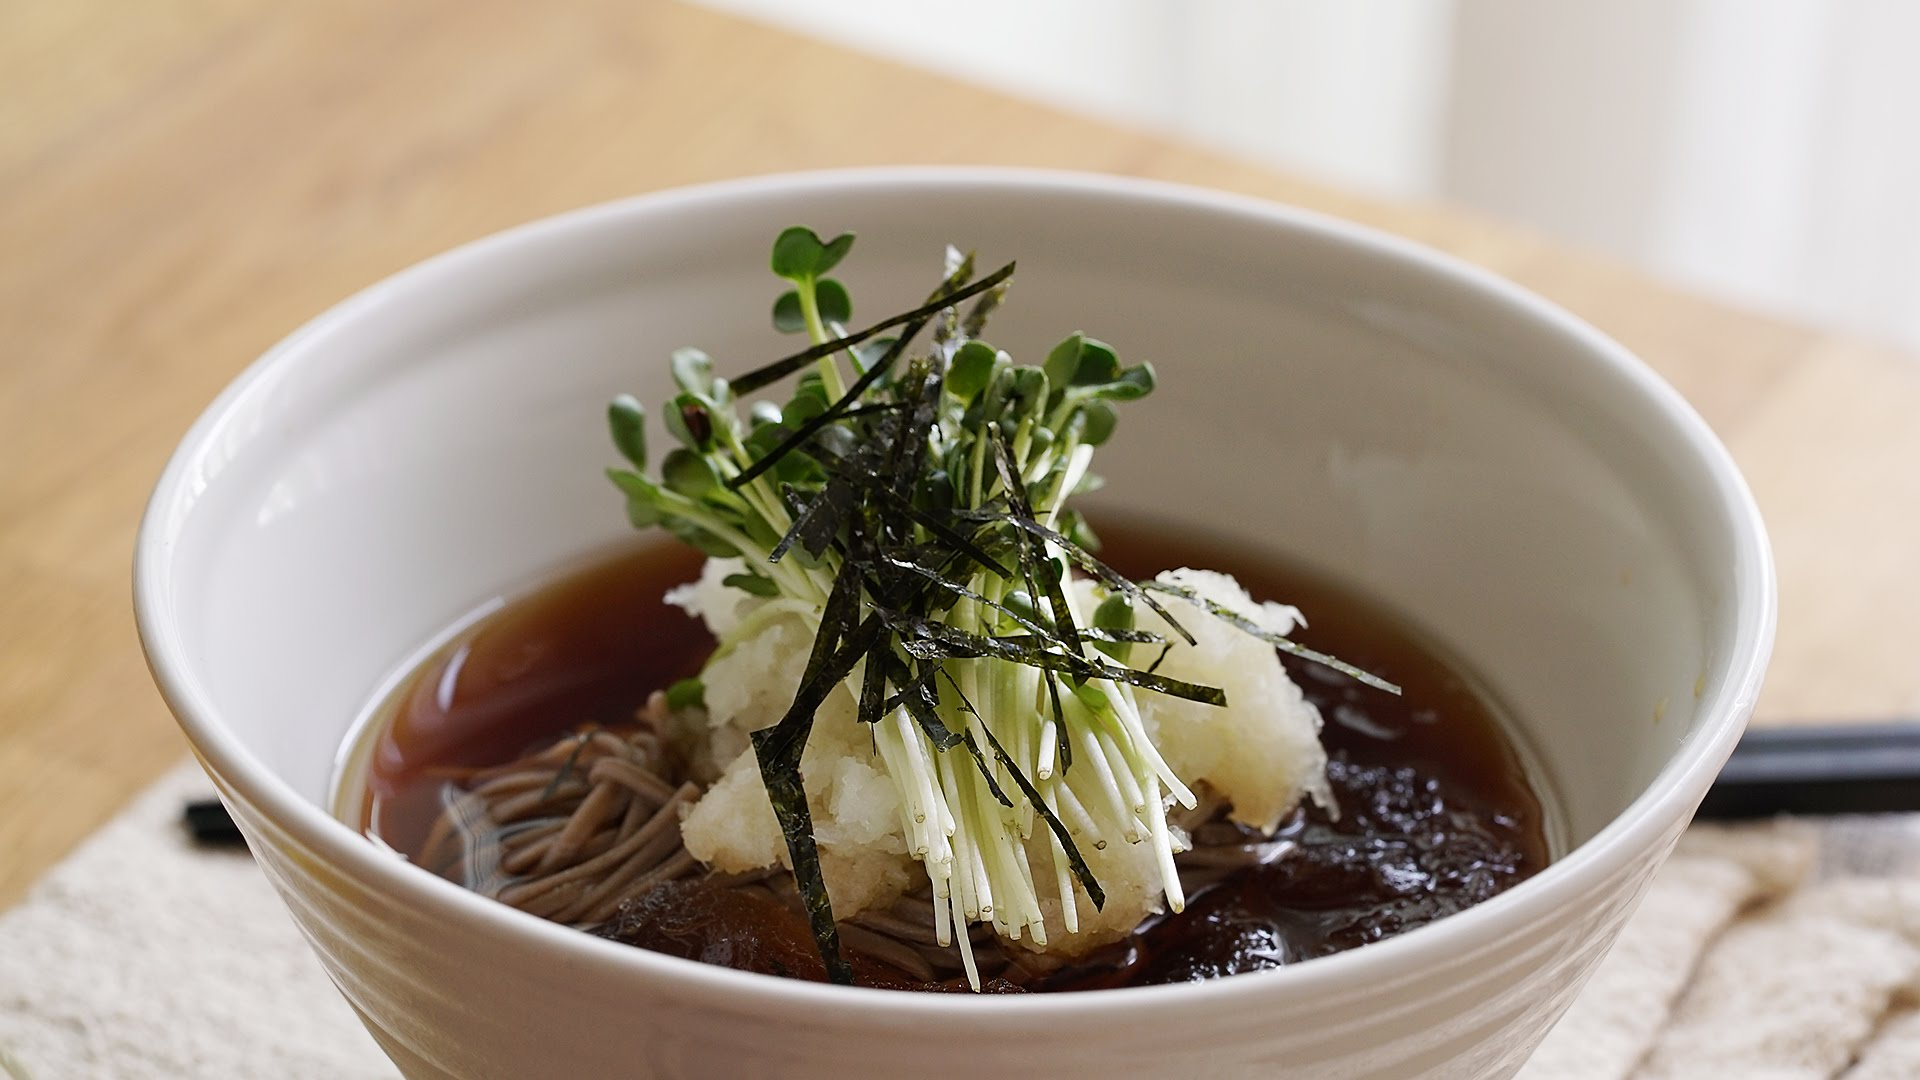Soba: (360, 622, 866, 982)
